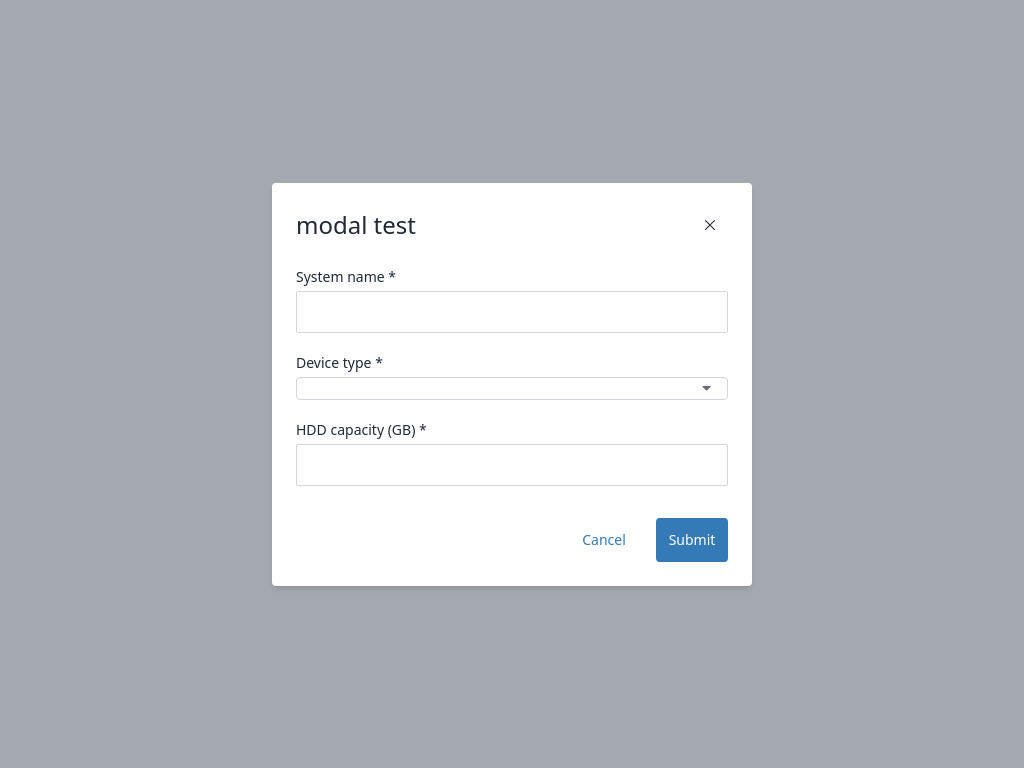
Modal Molecule › error values when Modal does not have any input
The image size is (1024, 768).
Click the button "Submit".
click(692, 540)  # box 656,518 -> 728,562
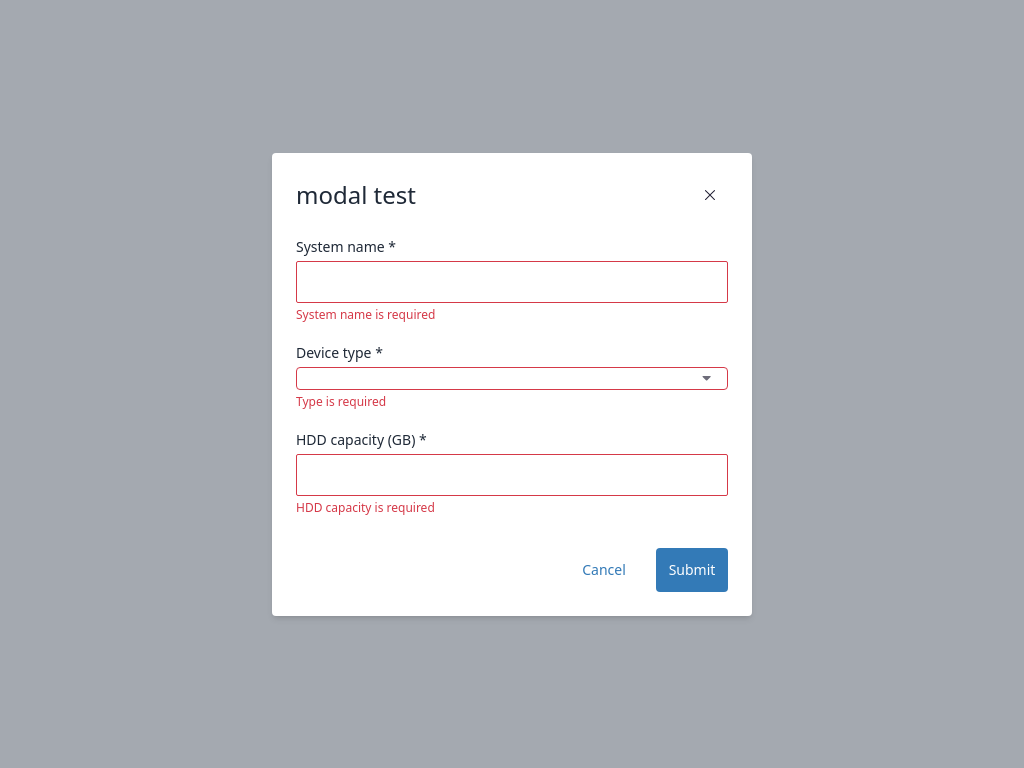
Expected: the text "System name is required" is shown, 296,306 -> 435,322
Expected: the text "Type is required" is shown, 296,392 -> 386,410
Expected: the text "HDD capacity is required" is shown, 296,498 -> 435,516
